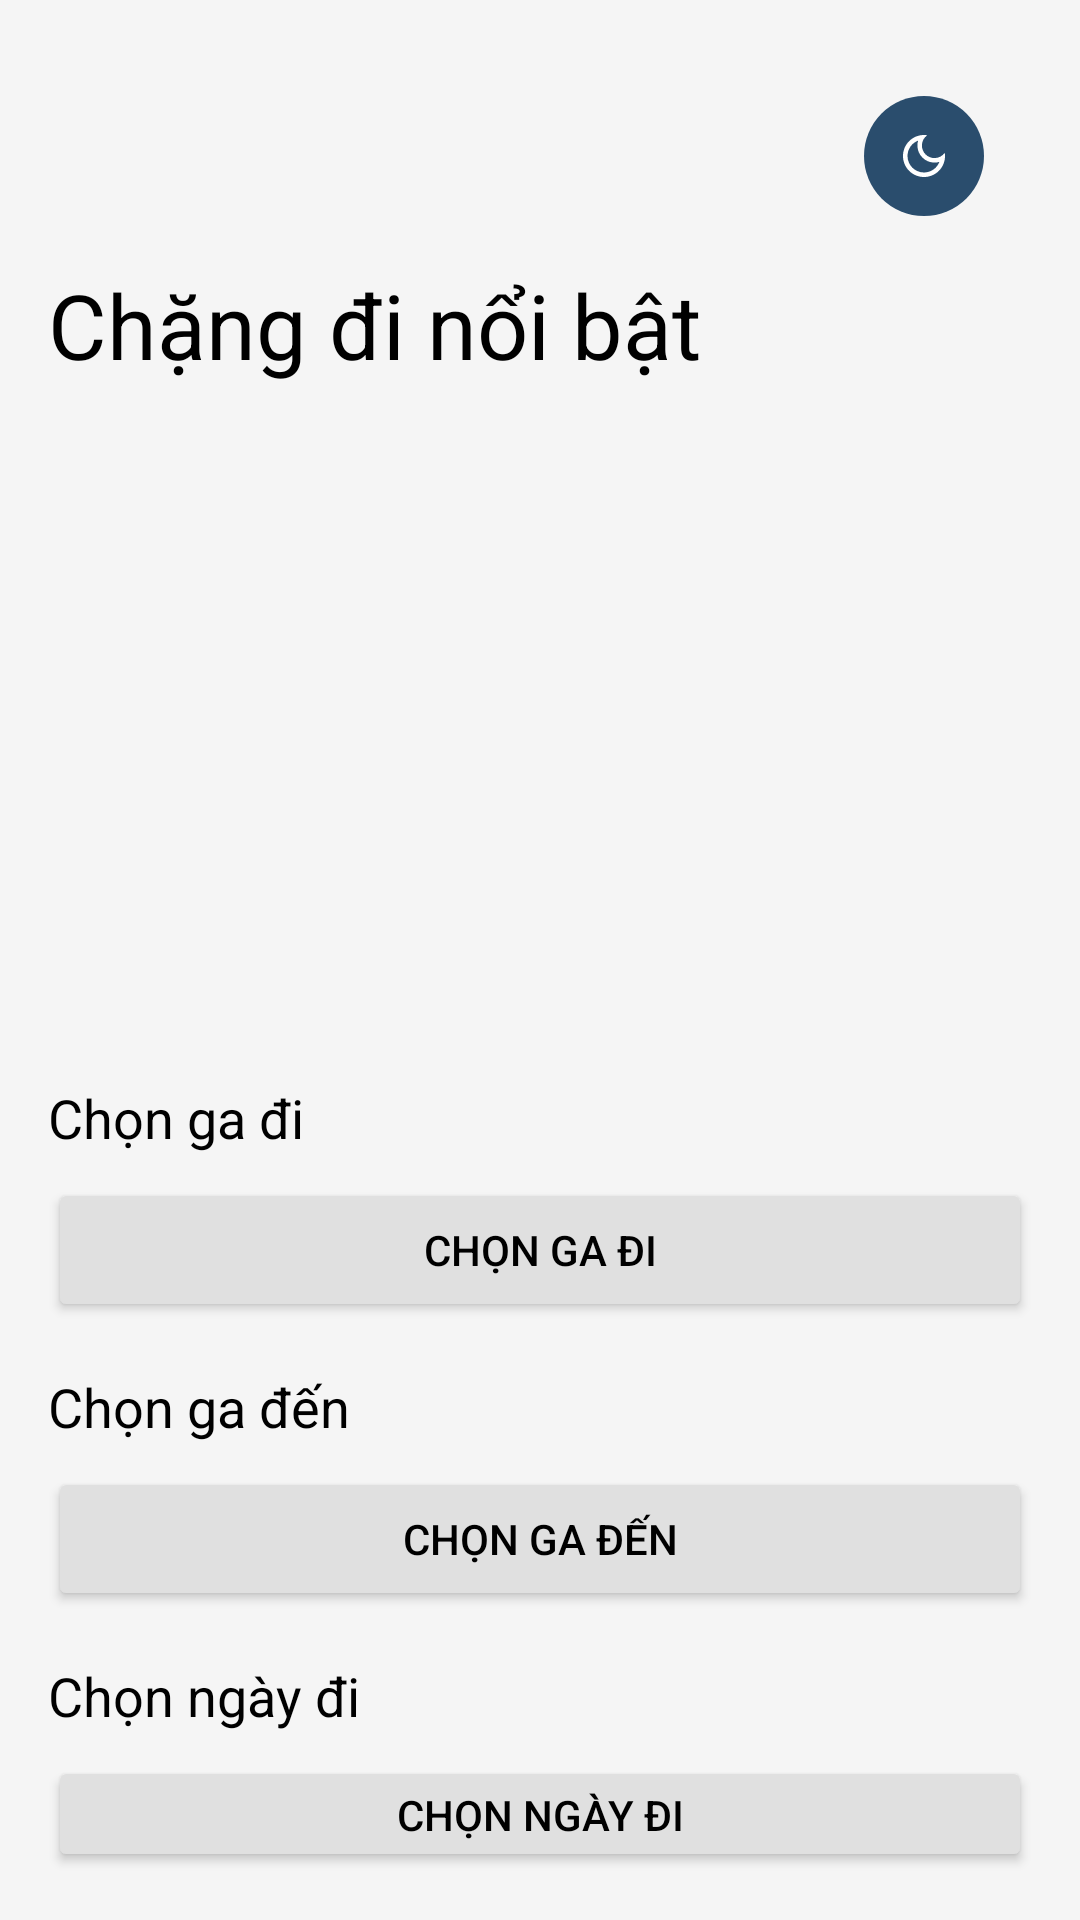

Locate icon controls on the screen. Image size 1080 × 1920, boxes as (x1, y1, x2, y2).
themes: (864, 96, 984, 216)
